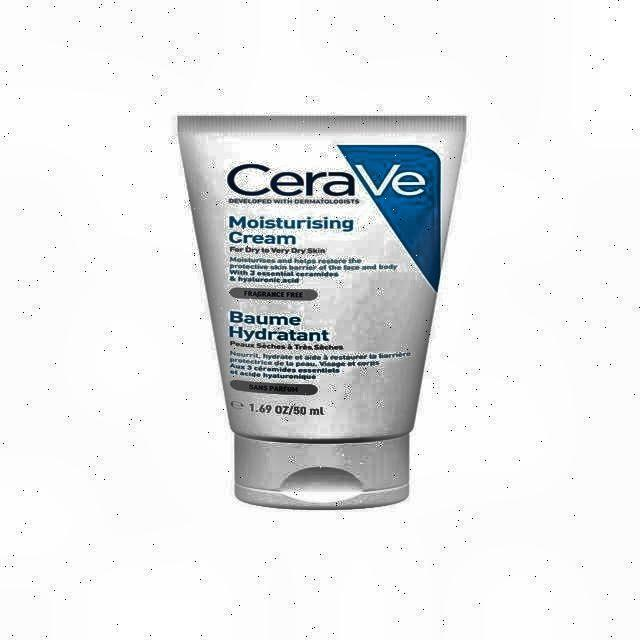plastic: (175, 111, 468, 514)
